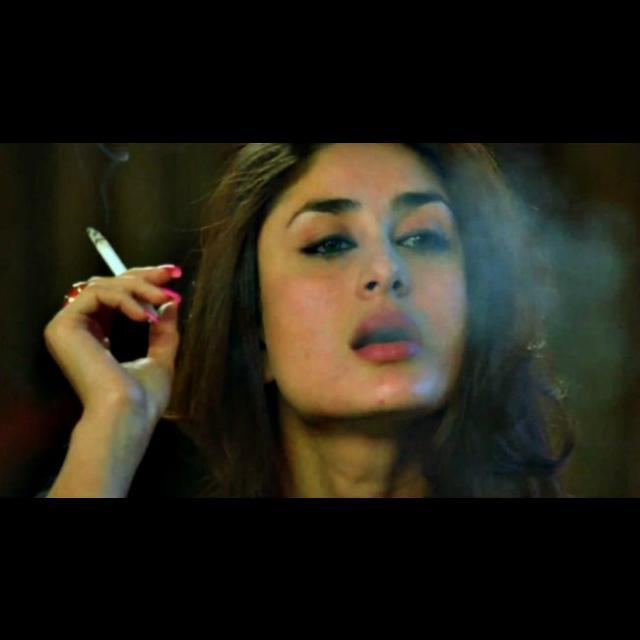rokok: (81, 222, 132, 274)
